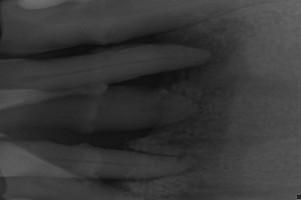Dental Caries: (125, 22, 251, 148)
